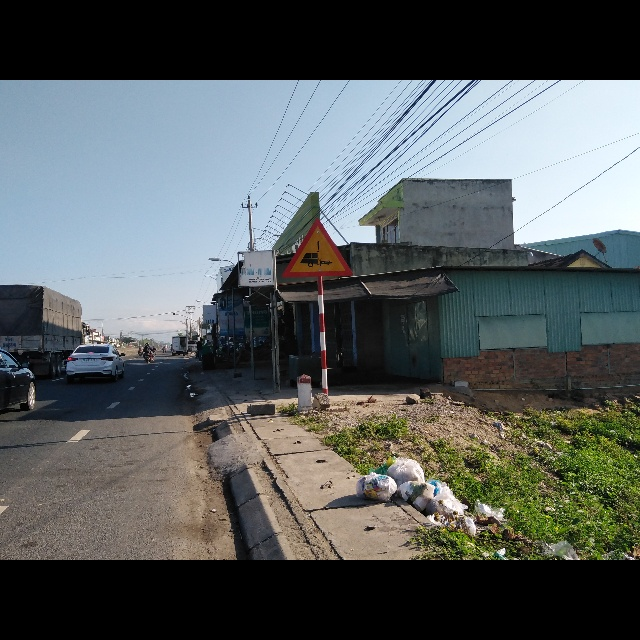Đoạn đường hay xảy ra tai nạn: (282, 217, 356, 280)
